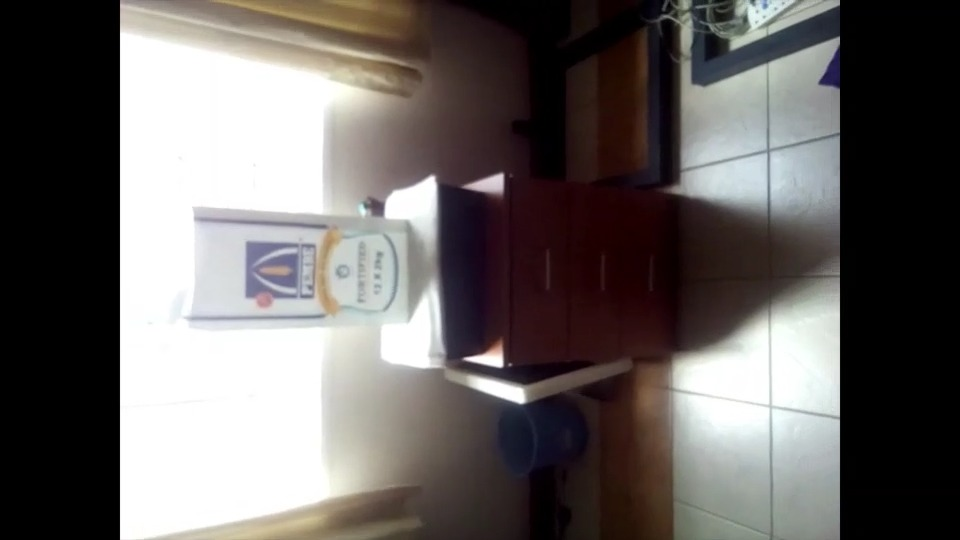wheat_flour_blue_label: (181, 206, 406, 318)
